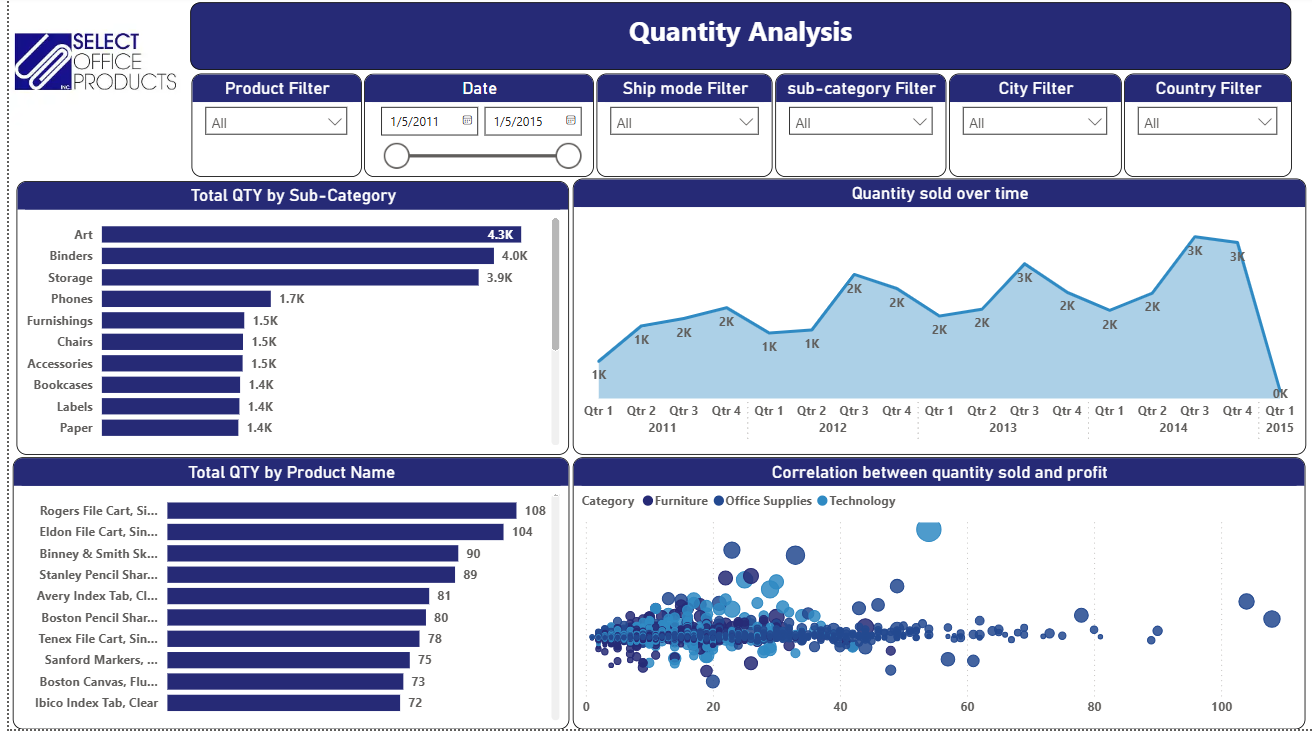

What the dashboard file says about the page in this screenshot:
{"tool":"powerbi","page":{"name":"Quantity Analysis","canvas":[1280,720],"ordinal":8},"visuals":[{"type":"textbox","box":[177.9,6.1,1081,66.3],"z":0},{"type":"image","box":[0,4.9,169.3,122.7],"z":1000},{"type":"slicer","title":"Country Filter","fields":{"Values":["Country.Country"]},"box":[1094.5,76.1,164.4,101.8],"z":2000},{"type":"slicer","title":"City Filter","fields":{"Values":["City.City"]},"box":[922.7,76.1,169.3,101.8],"z":3000},{"type":"slicer","title":"sub-category Filter","fields":{"Values":["Sub-Category.Sub-Category"]},"box":[752.2,76.1,168.1,101.8],"z":4000},{"type":"slicer","title":"Ship mode Filter","fields":{"Values":["Ship Mode.Ship Mode"]},"box":[576.7,76.1,173,101.8],"z":5000},{"type":"slicer","title":"Date","fields":{"Values":["Dim_date.Date"]},"box":[348.5,76.1,225.8,101.8],"z":6000},{"type":"slicer","title":"Product Filter","fields":{"Values":["Product.Product Name"]},"box":[179.1,76.1,166.9,101.8],"z":7000},{"type":"barChart","fields":{"Y":["_Measures.Total QTY"],"Category":["Sub-Category.Sub-Category"]},"box":[7.4,181.6,542.3,268.7],"z":8000},{"type":"barChart","fields":{"Y":["_Measures.Total QTY"],"Category":["Product.Product Name"]},"box":[3.7,452.8,546,267.5],"z":9000},{"type":"areaChart","title":"Quantity sold over time","fields":{"Category":["Dim_date.Date.Variation.Date Hierarchy.Year","Dim_date.Date.Variation.Date Hierarchy.Quarter","Dim_date.Date.Variation.Date Hierarchy.Month","Dim_date.Date.Variation.Date Hierarchy.Day"],"Y":["_Measures.Total QTY"]},"box":[553.4,179.1,720.2,271.2],"z":10000},{"type":"scatterChart","title":"Correlation between quantity sold and profit","fields":{"X":["_Measures.Total QTY"],"Size":["_Measures.Total Sales"],"Category":["Product.Product Name"],"Series":["Category.Category"],"Y":["_Measures.Total Profit"]},"box":[553.4,452.8,719,267.5],"z":11000}]}

Visuals, with their boxes in screenshot pixels (x1, y1, x2, y2), scaled from the page's 1280x720 canvas onto the 1312x734 screenshot:
textbox: x1=182, y1=6, x2=1290, y2=74
image: x1=0, y1=5, x2=174, y2=130
"Country Filter" slicer: x1=1122, y1=78, x2=1290, y2=181
"City Filter" slicer: x1=946, y1=78, x2=1119, y2=181
"sub-category Filter" slicer: x1=771, y1=78, x2=943, y2=181
"Ship mode Filter" slicer: x1=591, y1=78, x2=768, y2=181
"Date" slicer: x1=357, y1=78, x2=589, y2=181
"Product Filter" slicer: x1=184, y1=78, x2=355, y2=181
barChart - _Measures.Total QTY x Sub-Category.Sub-Category: x1=8, y1=185, x2=563, y2=459
barChart - _Measures.Total QTY x Product.Product Name: x1=4, y1=462, x2=563, y2=733
"Quantity sold over time" areaChart: x1=567, y1=183, x2=1305, y2=459
"Correlation between quantity sold and profit" scatterChart: x1=567, y1=462, x2=1304, y2=733
